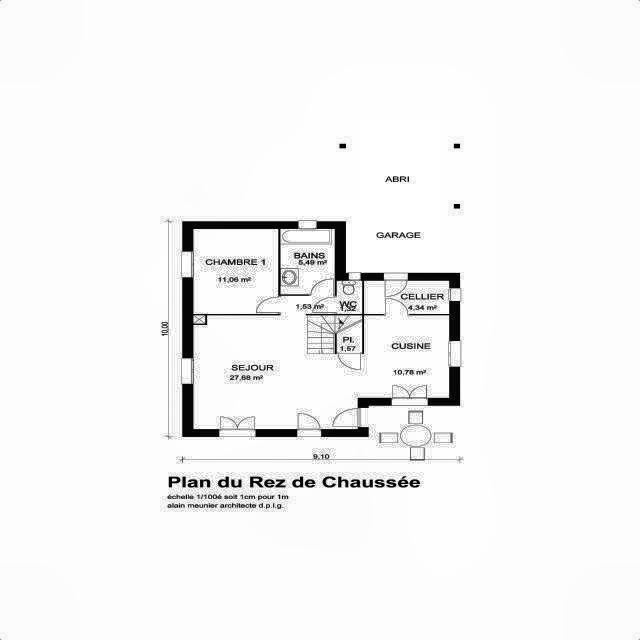room: (193, 296, 449, 429), (193, 229, 278, 314), (280, 229, 335, 294), (364, 281, 449, 314), (337, 281, 362, 314)
